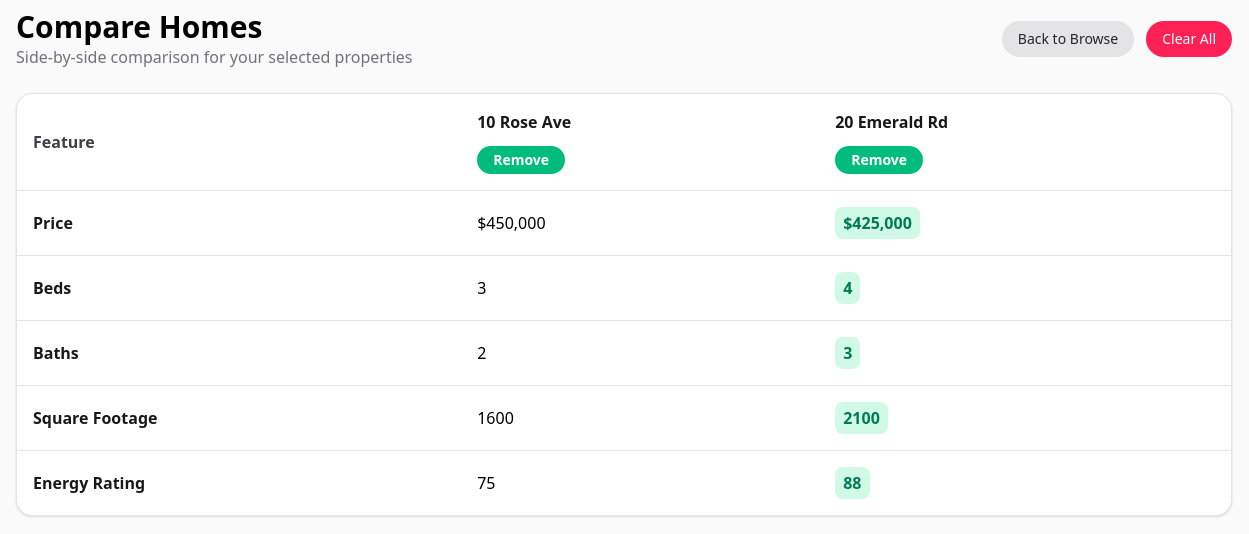
Test case: ComparisonPage › removes an individual listing from the comparison page
Expected: the text "10 Rose Ave" is shown, left=477, top=111, right=571, bottom=133
Click the button with aria-label "remove 10 rose ave from comparison" at [521, 160], box left=477, top=146, right=565, bottom=174
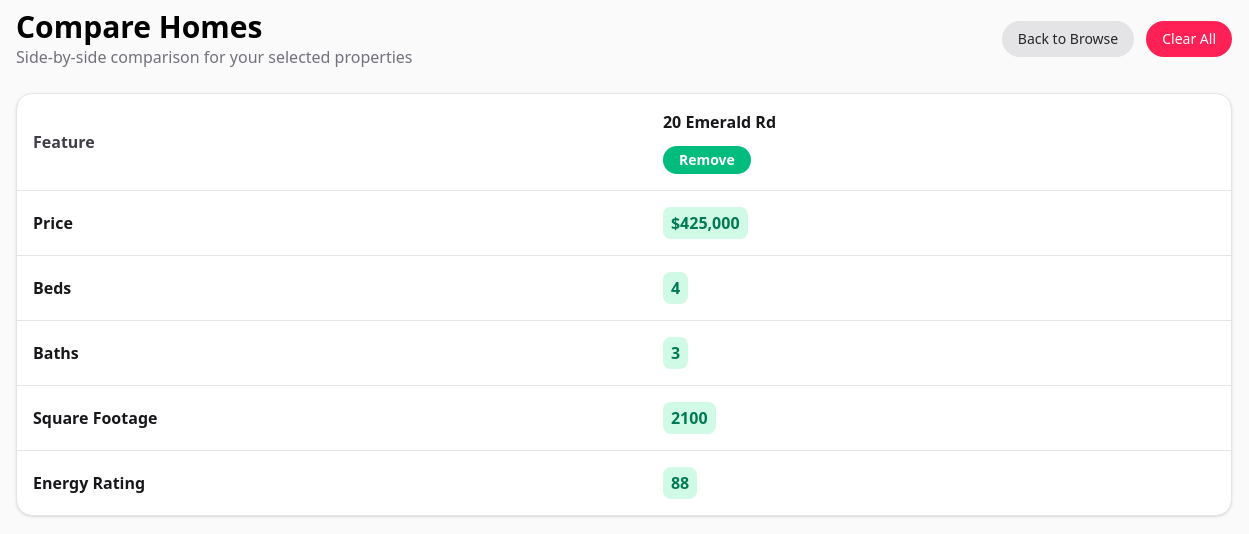
Expected: the text "20 Emerald Rd" is shown, left=663, top=111, right=776, bottom=133
Now the text "10 Rose Ave" is gone
